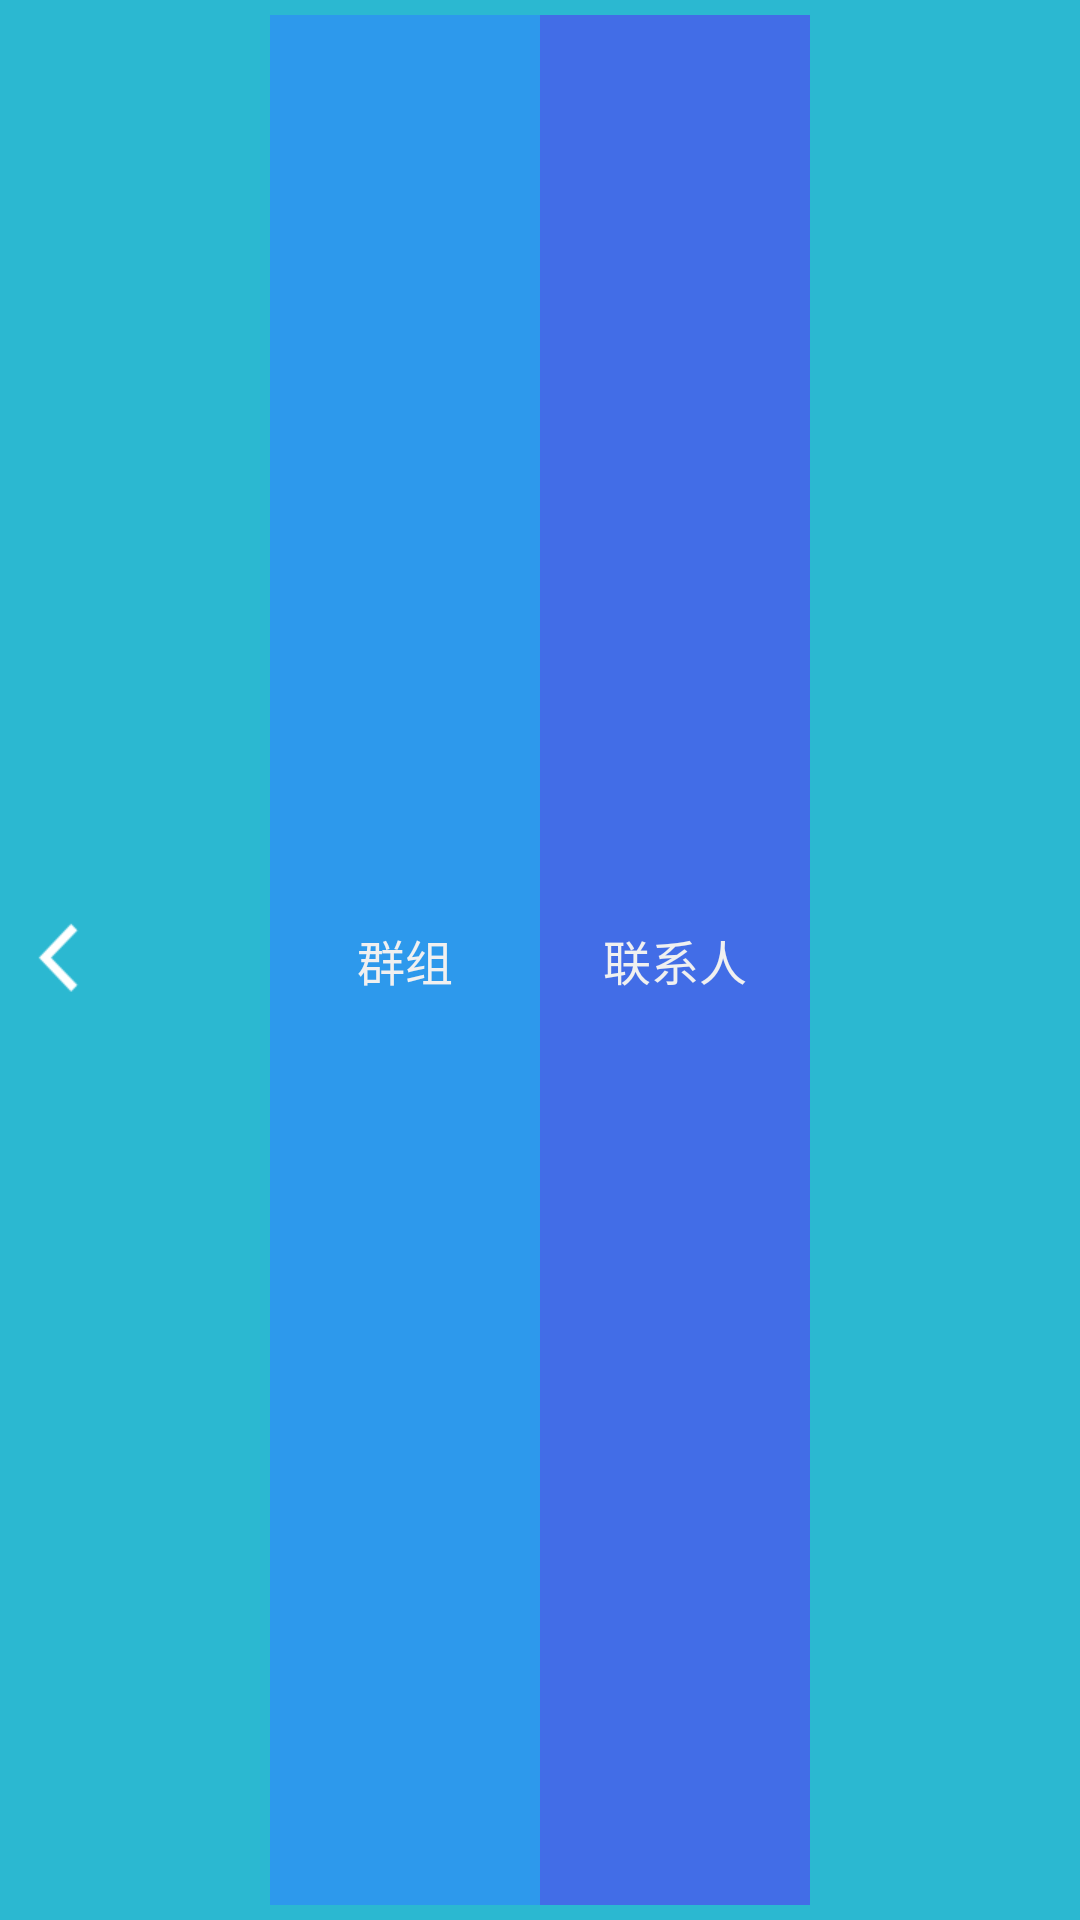

Point at icon controls on the screen. Image size 1080px×1920px, points as (x,y).
back: (58,958)
